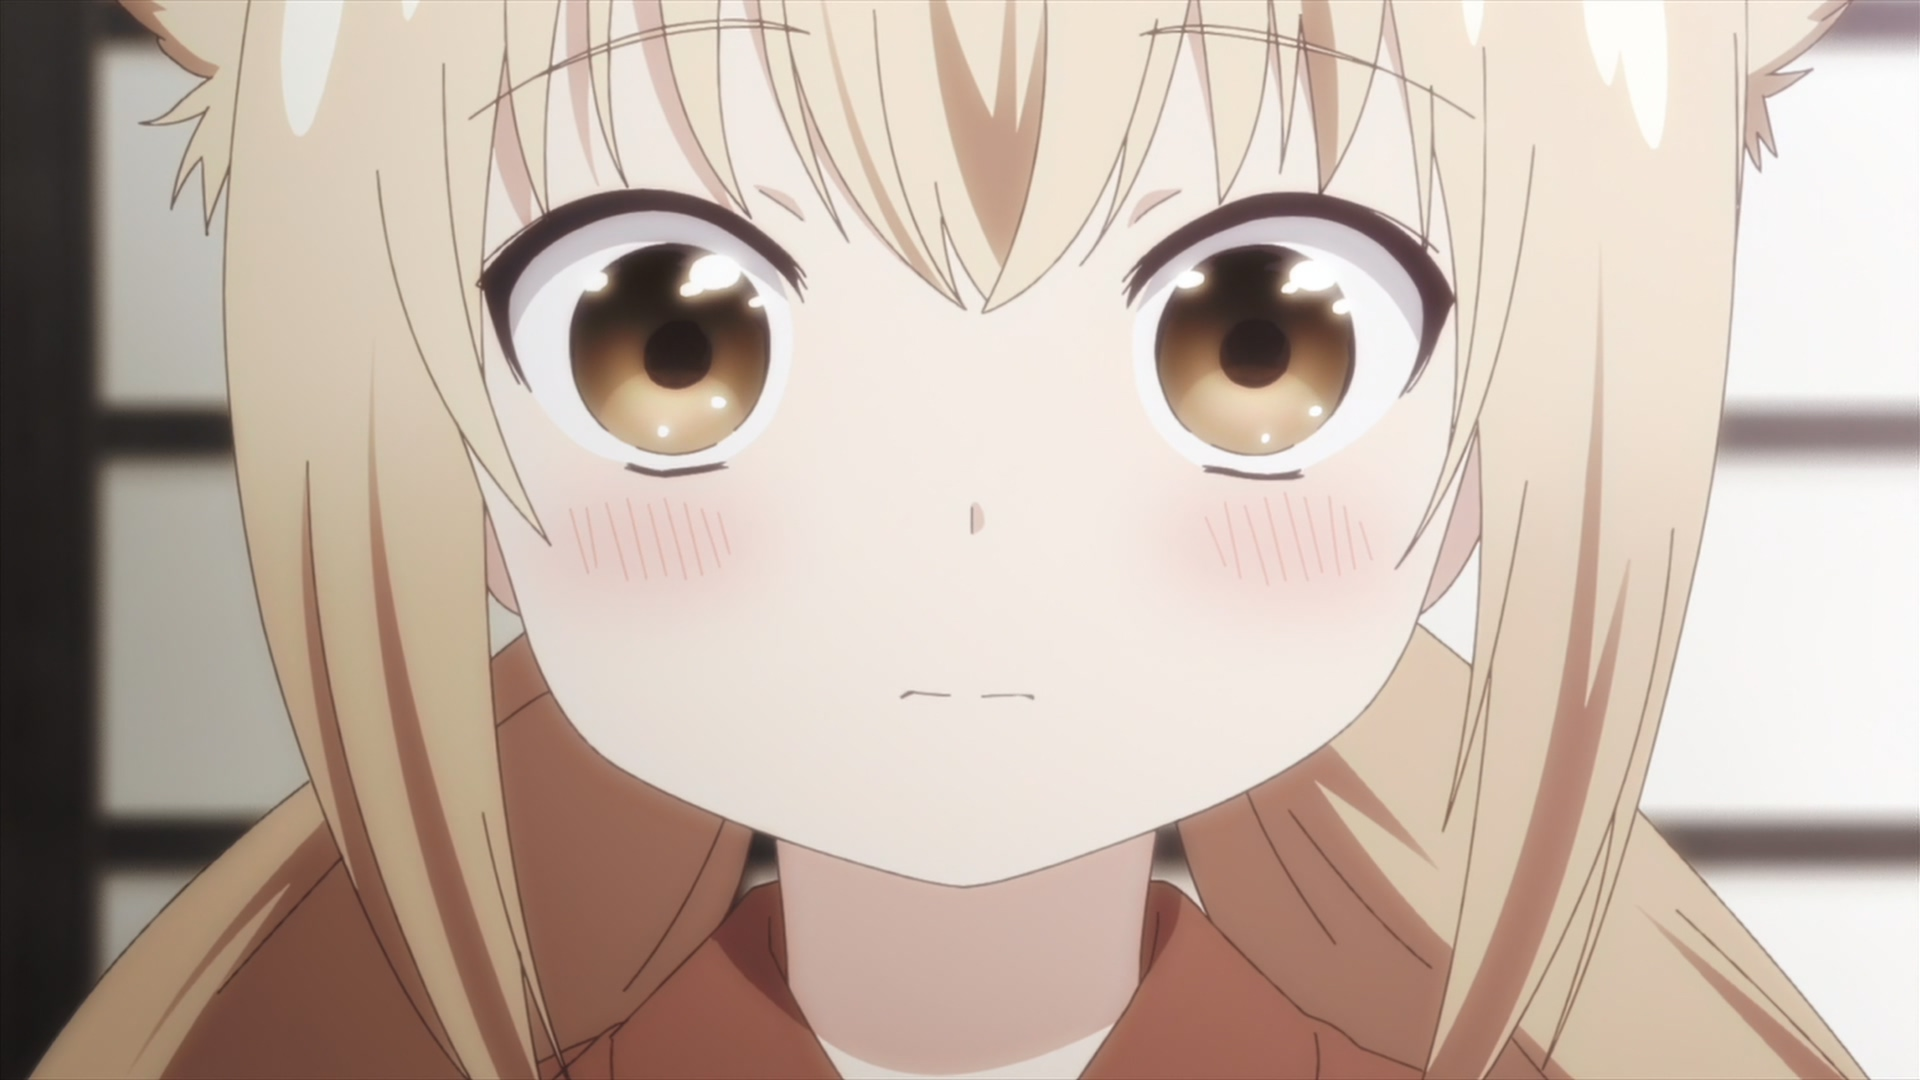柚: (33, 1, 1869, 1080)
